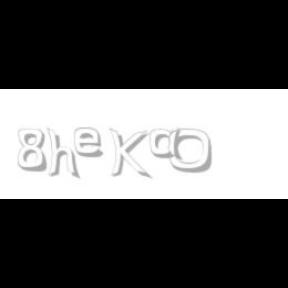8: (17, 128, 46, 172)
K: (108, 128, 148, 180)
O: (168, 128, 214, 174)
a: (150, 128, 186, 160)
e: (74, 128, 108, 158)
h: (46, 128, 82, 180)
